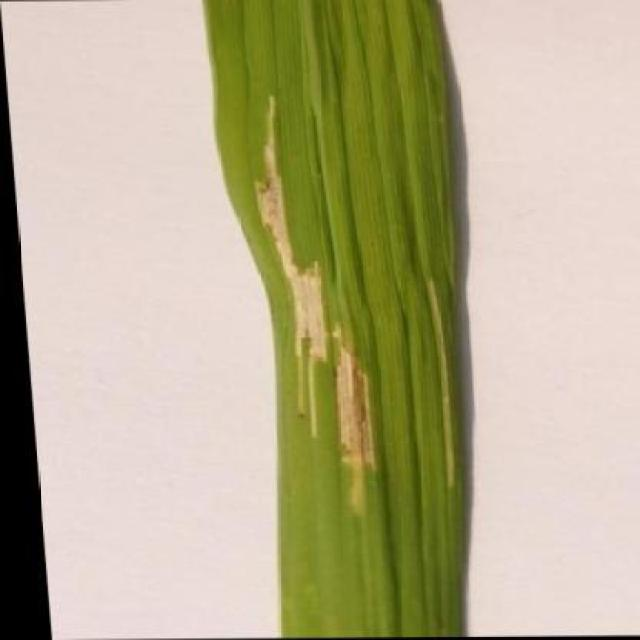Brown_Spot: (227, 98, 402, 525), (412, 274, 470, 498)
